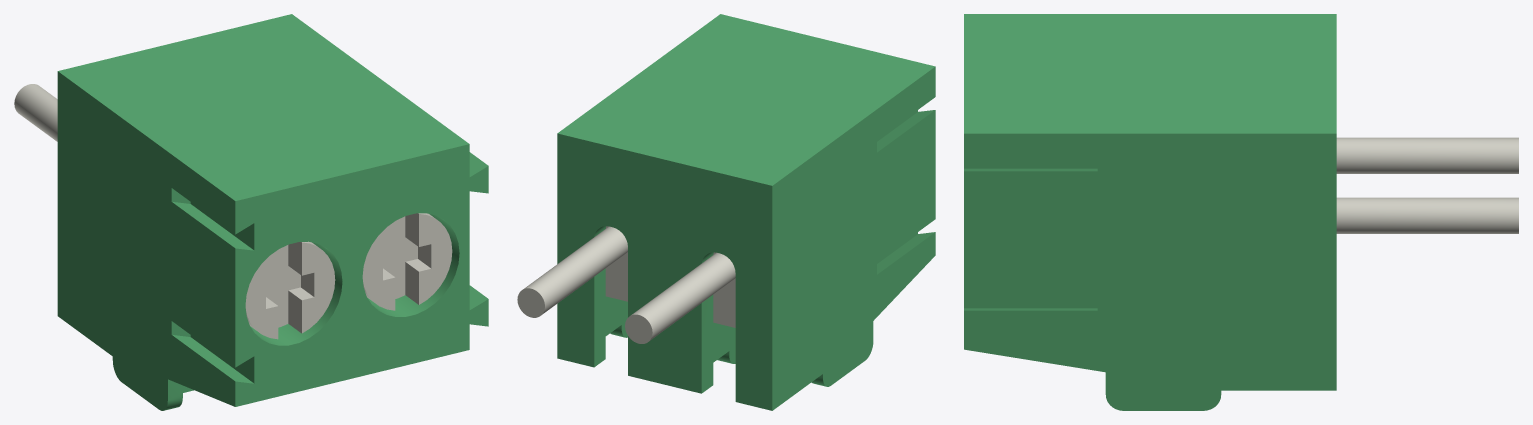
Rendered from terminal-2-p3.5.glb.
The picture shows the model from 3 angles, left to right: view 1: azimuth 30°, elevation 25°; view 2: azimuth 150°, elevation 25°; view 3: azimuth 270°, elevation 25°; orthographic projection. The views are drawn at different scales.
Parts seen in each view (by area): view 1: PLASTIC-GREEN-01, PIN-01 (×2); view 2: PLASTIC-GREEN-01, PIN-01 (×3); view 3: PLASTIC-GREEN-01, PIN-01 (×2).
Boxes of the visible parts, bbox=[...] form: PLASTIC-GREEN-01: bbox=[57, 14, 488, 410]; PIN-01 (×2): bbox=[14, 84, 452, 339]; PLASTIC-GREEN-01: bbox=[557, 14, 935, 410]; PIN-01 (×3): bbox=[517, 226, 735, 343]; PLASTIC-GREEN-01: bbox=[964, 14, 1336, 410]; PIN-01 (×2): bbox=[1336, 137, 1518, 233].
Bounding box in the file's own units: 7.57 × 7.55 × 13.7.
